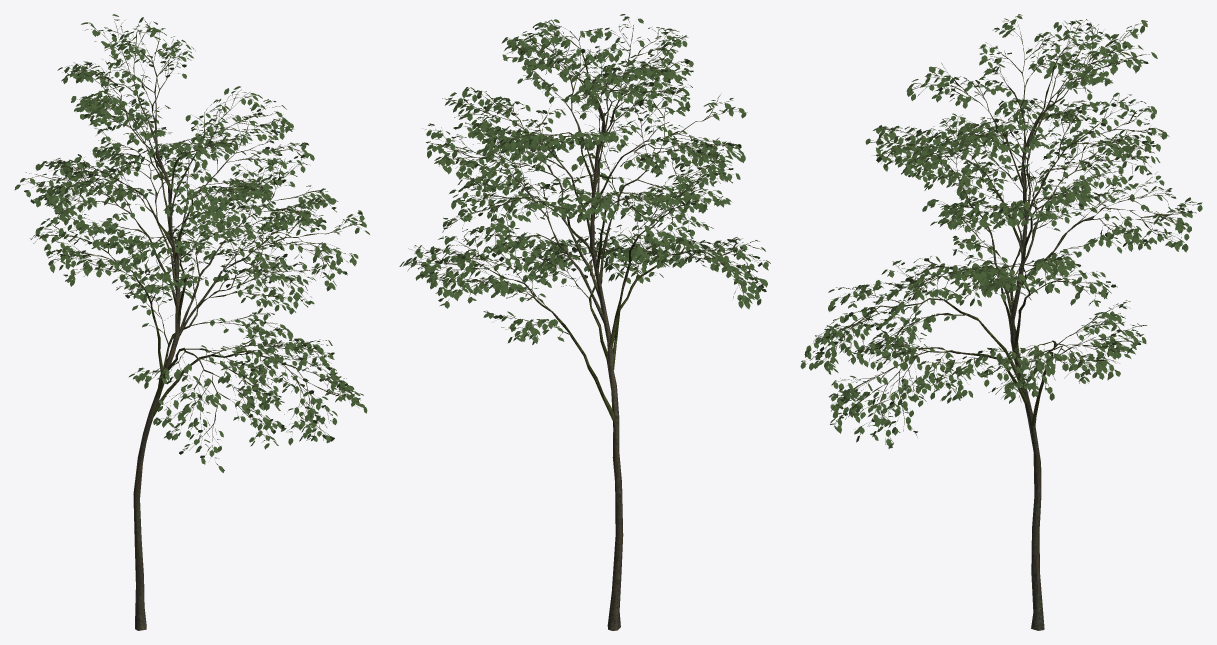
File: garden_tree_young_01.glb
The picture shows the model from 3 angles, left to right: view 1: azimuth 30°, elevation 25°; view 2: azimuth 150°, elevation 25°; view 3: azimuth 270°, elevation 25°; orthographic projection. The views are drawn at different scales.
Parts seen in each view (by area): view 1: garden_tree_young_01__lod0; view 2: garden_tree_young_01__lod0; view 3: garden_tree_young_01__lod0.
Part boxes in pixels (x1,y1,x2,y2): garden_tree_young_01__lod0: [14, 14, 369, 630]; garden_tree_young_01__lod0: [399, 14, 770, 630]; garden_tree_young_01__lod0: [800, 14, 1202, 630].
Size of what is drawn, in the model's own units: 5.19 by 9.96 by 5.95.
3 materials, 3 textured.
